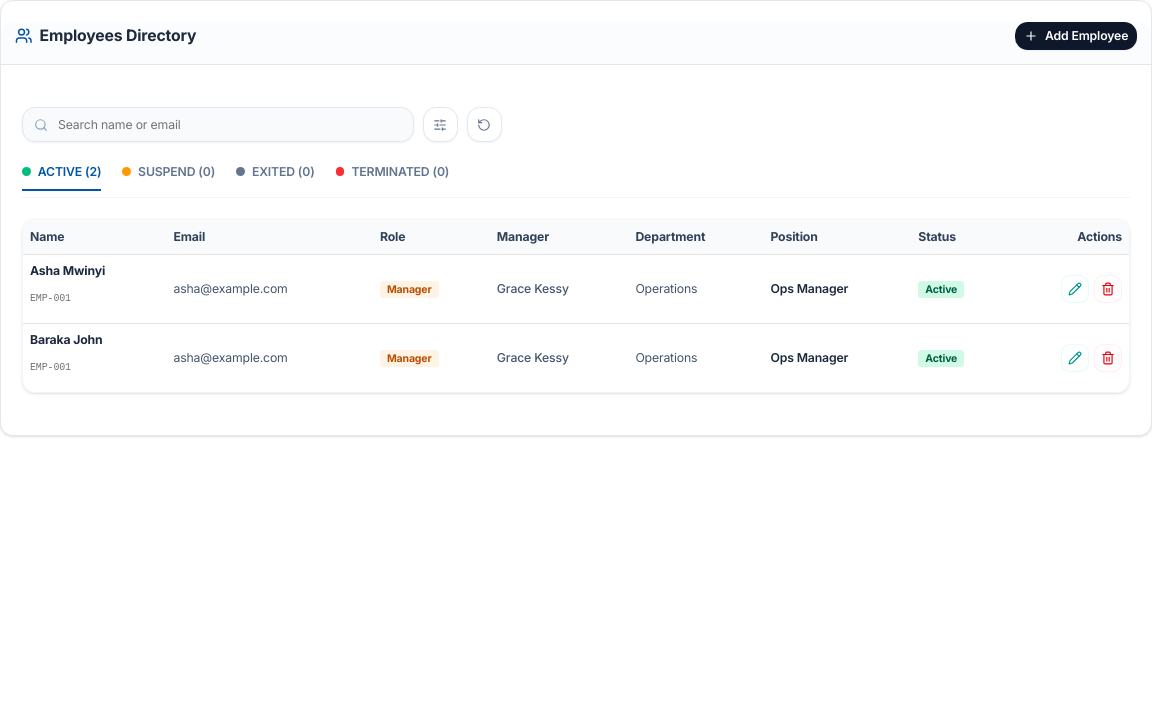
HRStaffSubtab › filters out staff created before the 'Created From' date
Click the button with class "lucide-sliders-horizontal" at (440, 124), box [423,107,458,142]
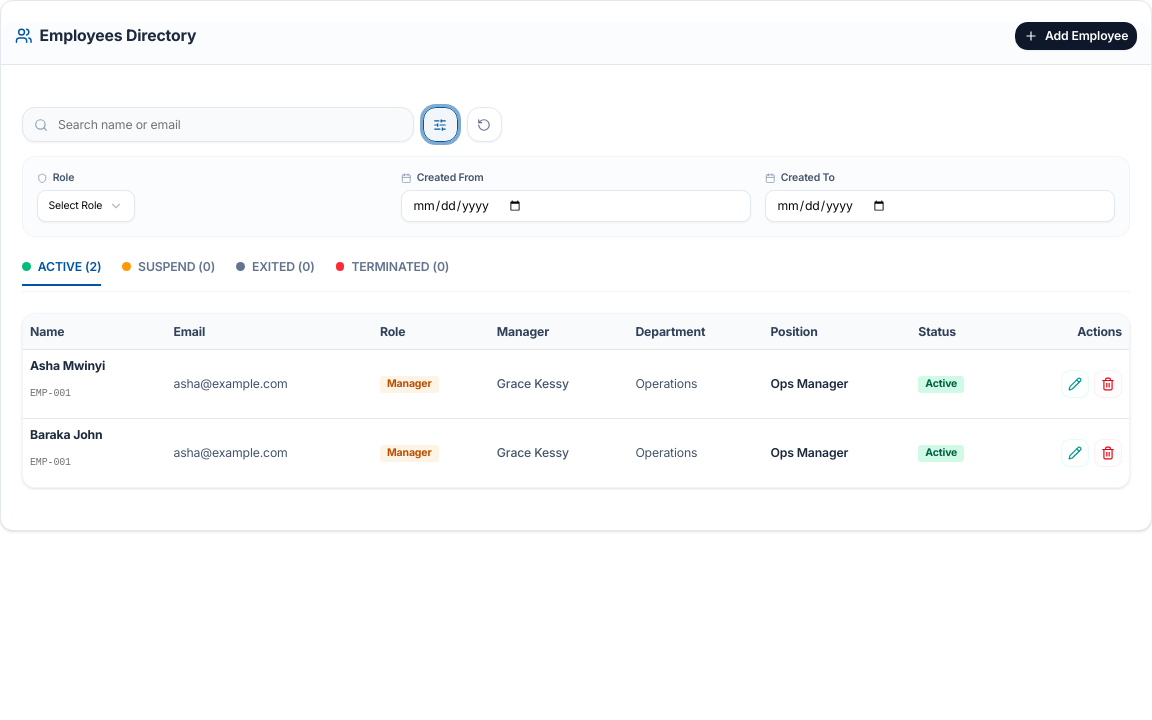
Type "2026-01-01" into the date field below "Created From" at (576, 206), box [401,190,751,222]
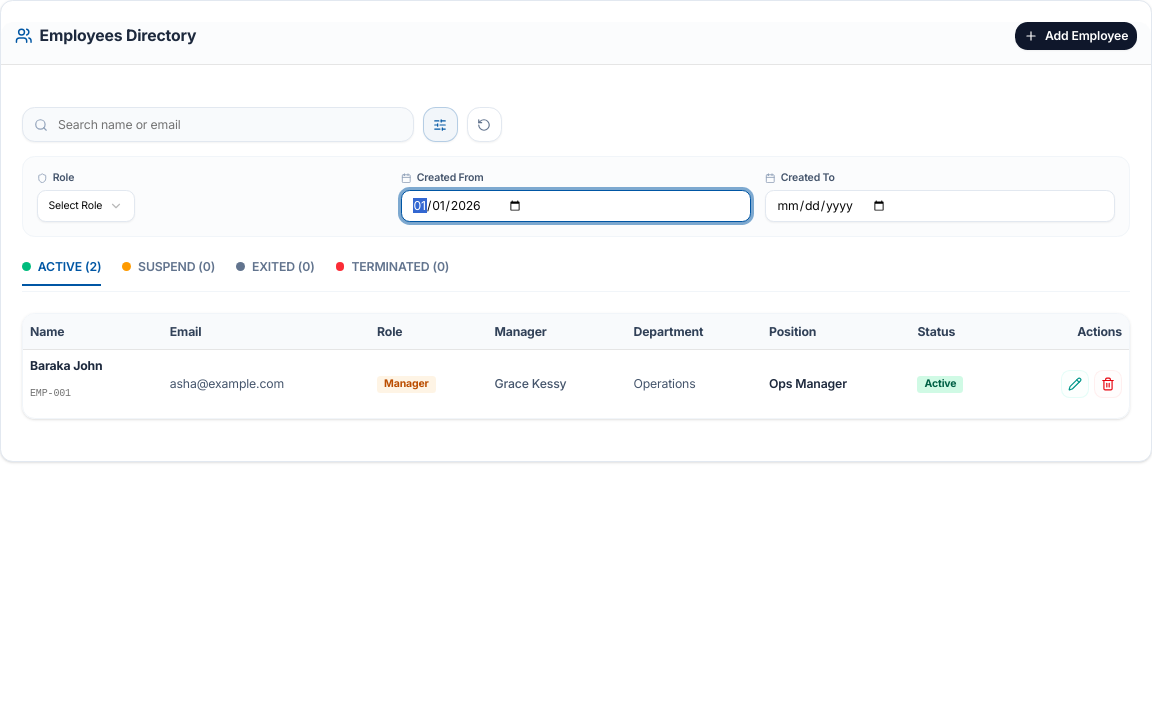
Expected: the text "Baraka John" is shown, [30,358,102,373]
Now the text "Asha Mwinyi" is gone
